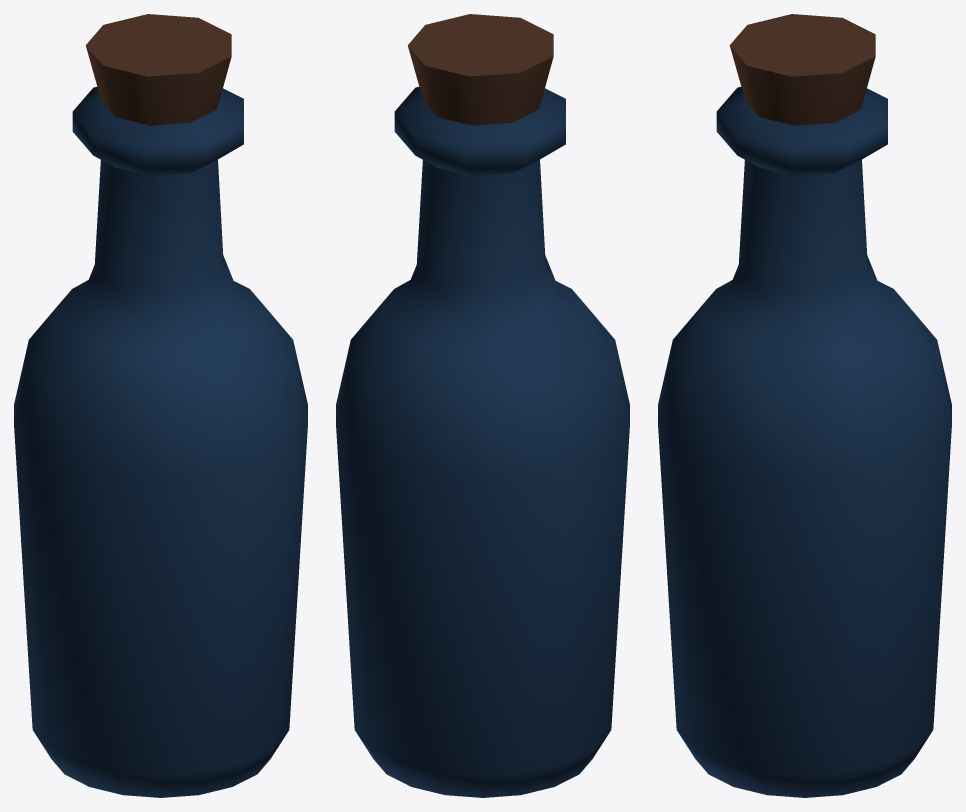
Rendered from obj_bottle_C.FBX.
3 views of the same model, side by side, from view 1: azimuth 30°, elevation 25°; view 2: azimuth 150°, elevation 25°; view 3: azimuth 270°, elevation 25° (orthographic).
Parts seen in each view (by area): view 1: obj_bottle_C; view 2: obj_bottle_C; view 3: obj_bottle_C.
Part boxes in pixels (x1,y1,x2,y2): obj_bottle_C: (14, 14, 307, 797); obj_bottle_C: (336, 14, 629, 797); obj_bottle_C: (658, 14, 951, 797).
Bounding box in the file's own units: 0.3739 × 0.9757 × 0.3682.
